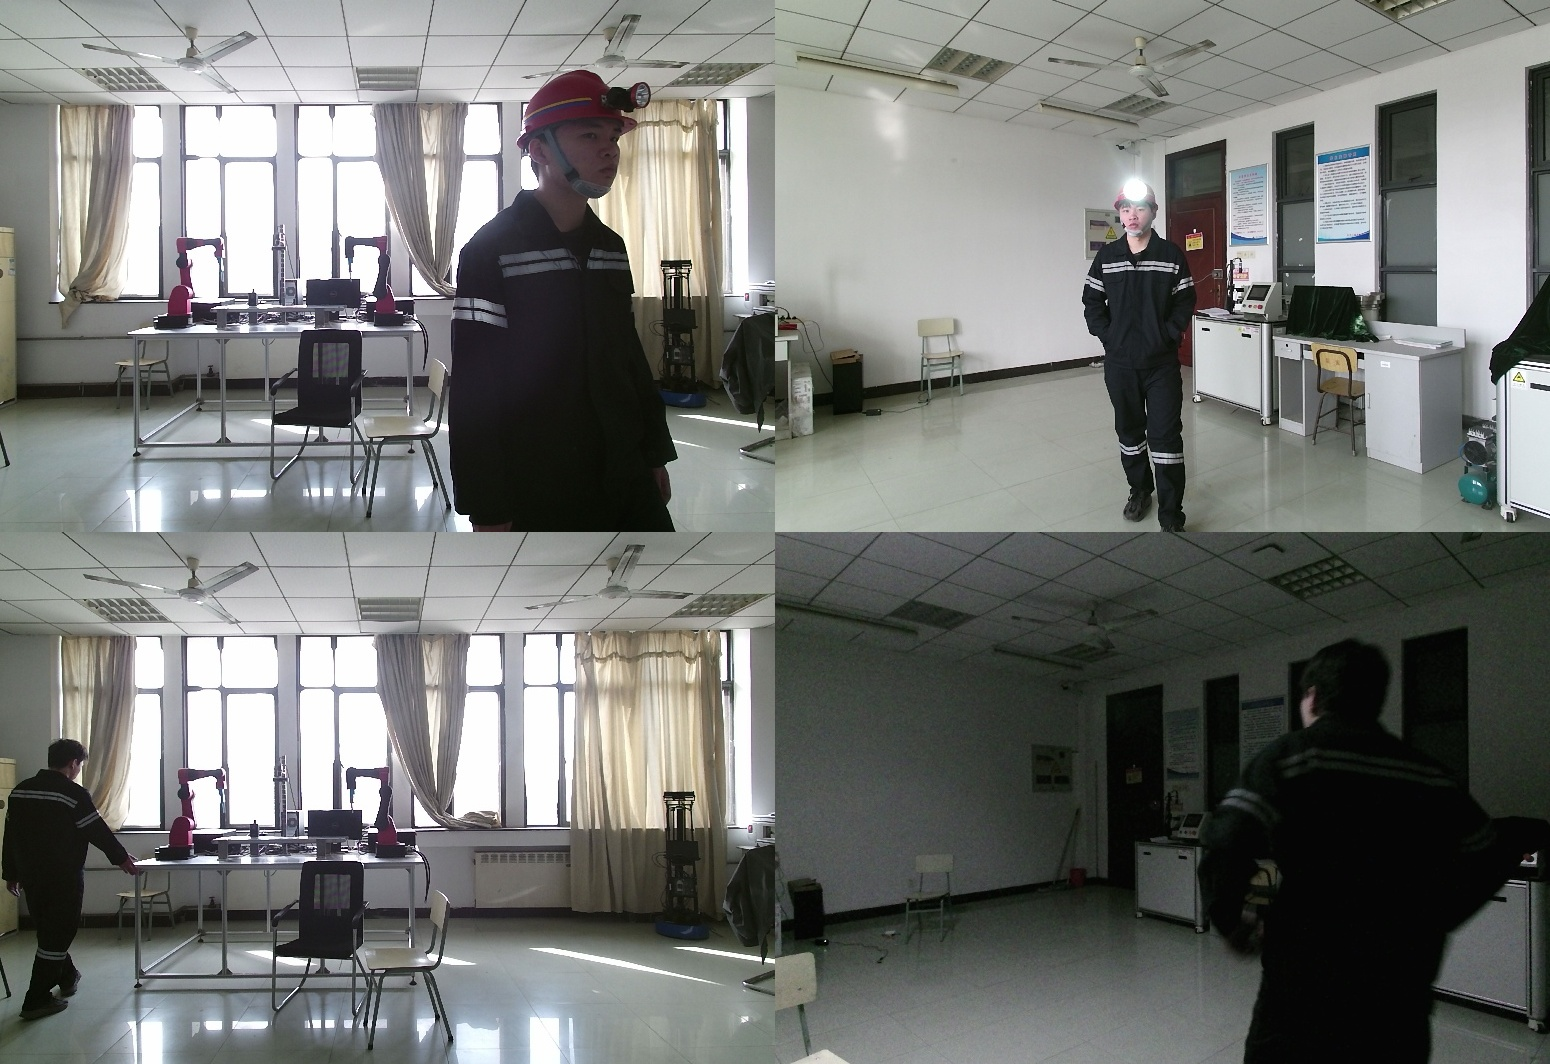person: (1193, 651, 1510, 1064), (455, 70, 690, 532), (1079, 182, 1209, 532), (1, 738, 140, 1015)
